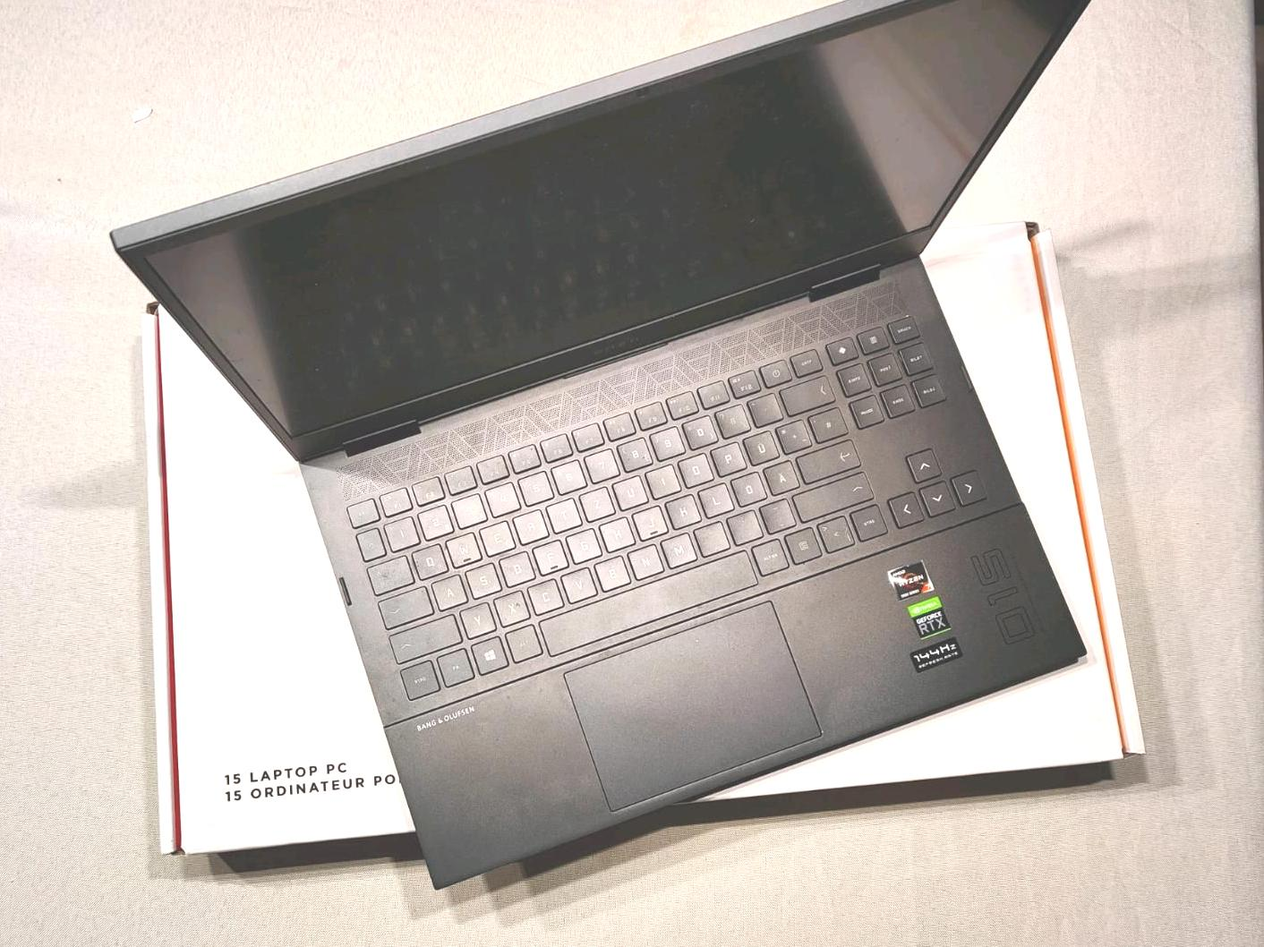0: (681, 412, 716, 445)
1: (384, 516, 421, 551)
2: (418, 506, 455, 541)
3: (450, 494, 487, 529)
4: (485, 482, 522, 516)
5: (517, 467, 553, 502)
6: (551, 456, 586, 491)
7: (583, 445, 619, 479)
8: (615, 433, 652, 467)
9: (647, 422, 684, 456)
a: (430, 576, 468, 611)
accent: (744, 389, 782, 423)
ae: (760, 456, 799, 491)
alt-left: (503, 621, 542, 661)
altgr-right: (747, 535, 788, 574)
b: (591, 553, 631, 589)
c: (525, 576, 563, 612)
caret: (354, 527, 387, 561)
comma: (690, 518, 730, 555)
d: (497, 547, 535, 584)
del: (778, 372, 836, 413)
e: (478, 521, 517, 556)
enter: (794, 438, 859, 482)
f: (530, 536, 568, 572)
g: (563, 525, 602, 560)
h: (597, 513, 635, 549)
hash: (806, 404, 847, 438)
i: (642, 460, 680, 496)
j: (630, 502, 668, 538)
k: (662, 491, 700, 525)
keyboard: (333, 305, 1089, 889)
l: (696, 479, 733, 514)
less: (816, 516, 856, 552)
m: (658, 530, 697, 565)
minus: (757, 499, 797, 535)
n: (624, 542, 664, 577)
o: (676, 450, 713, 483)
oe: (729, 467, 766, 503)
p: (709, 439, 746, 472)
plus: (773, 416, 811, 450)
point: (723, 509, 763, 546)
q: (412, 543, 450, 579)
r: (510, 507, 549, 542)
s: (464, 565, 502, 601)
shift-left: (388, 610, 462, 661)
shift-lock: (376, 582, 432, 627)
shift-right: (790, 469, 873, 519)
space: (537, 543, 757, 657)
ss: (714, 400, 749, 434)
strg-left: (398, 658, 440, 698)
strg-right: (850, 505, 889, 542)
t: (542, 494, 582, 531)
tab: (366, 552, 413, 593)
u: (610, 473, 647, 508)
ue: (740, 427, 779, 461)
v: (558, 565, 598, 601)
w: (443, 530, 482, 566)
x: (491, 587, 531, 624)
y: (457, 600, 496, 636)
z: (576, 483, 614, 518)
